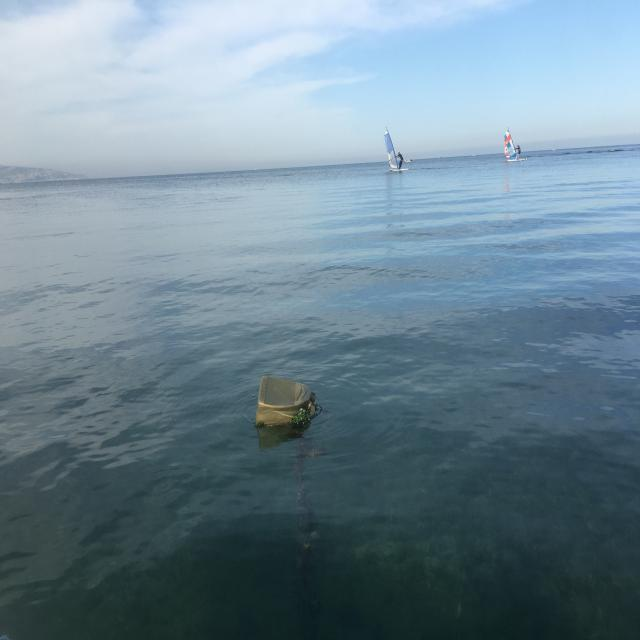Plastic: (252, 371, 320, 433)
